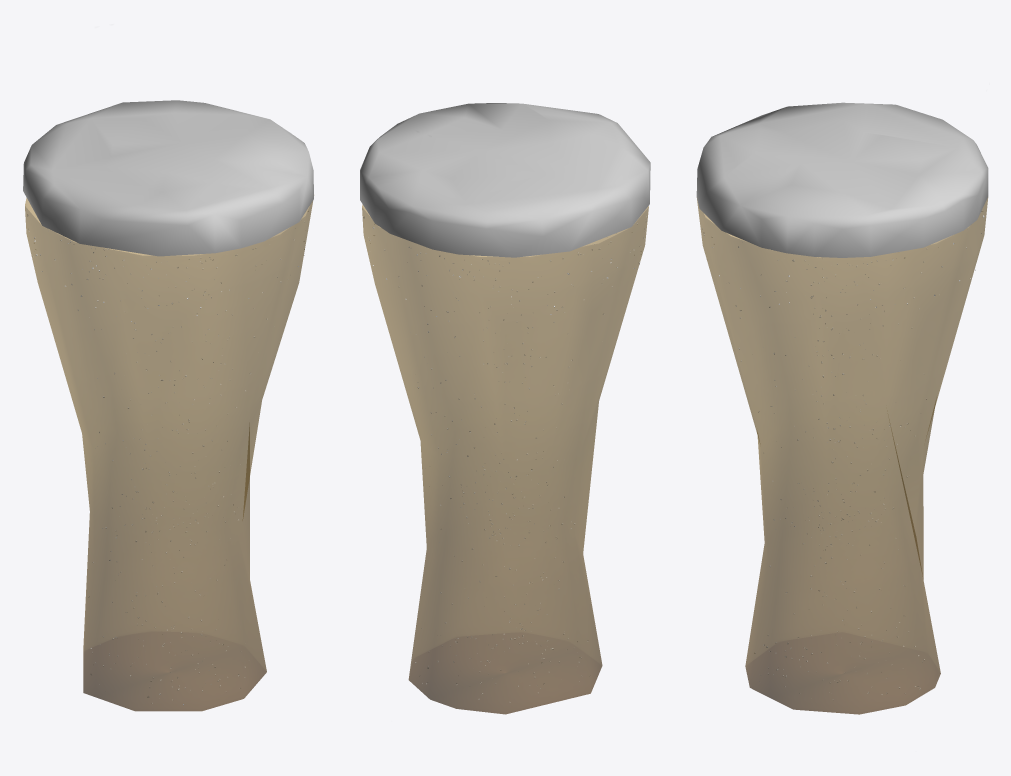
The model's file is food_beer.glb.
The picture shows the model from 3 angles, left to right: view 1: azimuth 30°, elevation 25°; view 2: azimuth 150°, elevation 25°; view 3: azimuth 270°, elevation 25°; orthographic projection.
Visible parts, largest first — view 1: polySurface1, pCylinder4, polySurface2; view 2: polySurface1, pCylinder4, polySurface2; view 3: polySurface1, pCylinder4, polySurface2.
Boxes of the visible parts, box(x1,y1,x2,y2) form: polySurface1: box(25, 198, 312, 711); pCylinder4: box(23, 100, 313, 256); polySurface2: box(27, 211, 308, 705); polySurface1: box(362, 204, 648, 714); pCylinder4: box(360, 103, 650, 257); polySurface2: box(363, 215, 647, 702); polySurface1: box(696, 197, 988, 714); pCylinder4: box(696, 102, 988, 257); polySurface2: box(702, 211, 984, 699).
Size of what is drawn, in the model's own units: 0.0596 by 0.1372 by 0.06.
2 materials, 2 textured.
